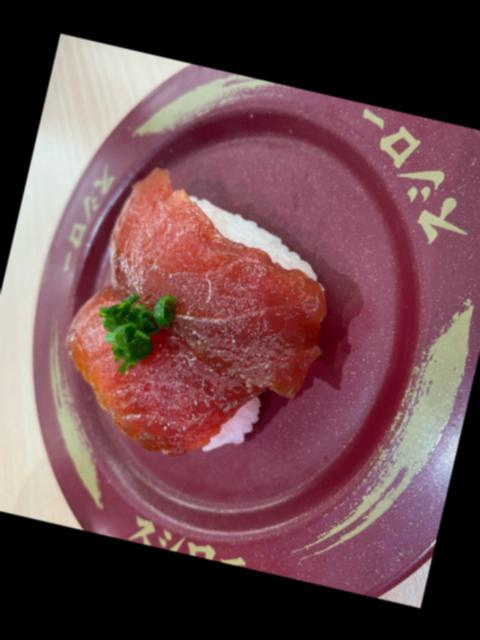janred: (22, 48, 480, 607)
